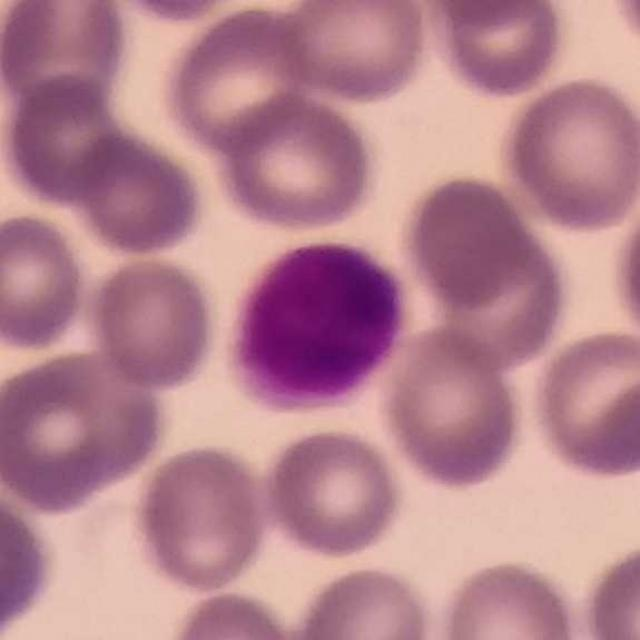Lymphocyte: (218, 232, 413, 418)
RBC: (0, 342, 171, 513), (375, 321, 529, 494), (208, 89, 382, 237), (159, 1, 316, 158), (496, 72, 640, 235), (127, 439, 273, 596), (394, 170, 547, 318), (257, 423, 407, 562), (62, 124, 210, 260), (1, 71, 139, 213), (84, 251, 222, 393), (525, 325, 640, 484), (273, 0, 433, 107), (0, 0, 134, 120), (420, 0, 571, 101), (431, 554, 585, 640), (0, 209, 90, 354), (284, 561, 439, 640), (0, 484, 60, 639), (162, 586, 302, 640), (575, 537, 639, 640), (607, 182, 640, 353), (94, 0, 262, 26), (406, 0, 564, 26), (602, 0, 640, 57)
